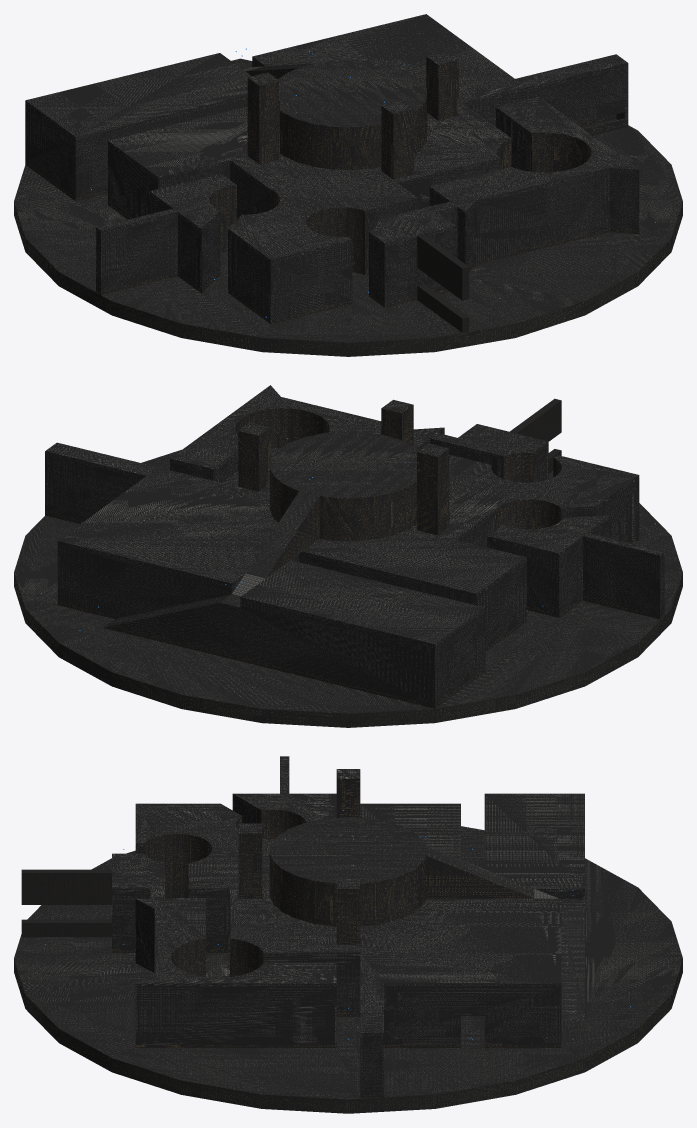
The model's file is Level0Layout.obj.
3 renders of one model, top to bottom at view 1: azimuth 30°, elevation 25°; view 2: azimuth 150°, elevation 25°; view 3: azimuth 270°, elevation 25°, orthographic.
Parts seen in each view (by area): view 1: Mesh61 Model; view 2: Mesh61 Model; view 3: Mesh61 Model.
Boxes of the visible parts, x1,y1,x2,y2 form: Mesh61 Model: [14, 14, 682, 356]; Mesh61 Model: [14, 385, 682, 727]; Mesh61 Model: [14, 756, 682, 1113].
Size of the model in its own units: 84.77 by 21.97 by 84.77.
Materials: 11 (8 with a texture image).
